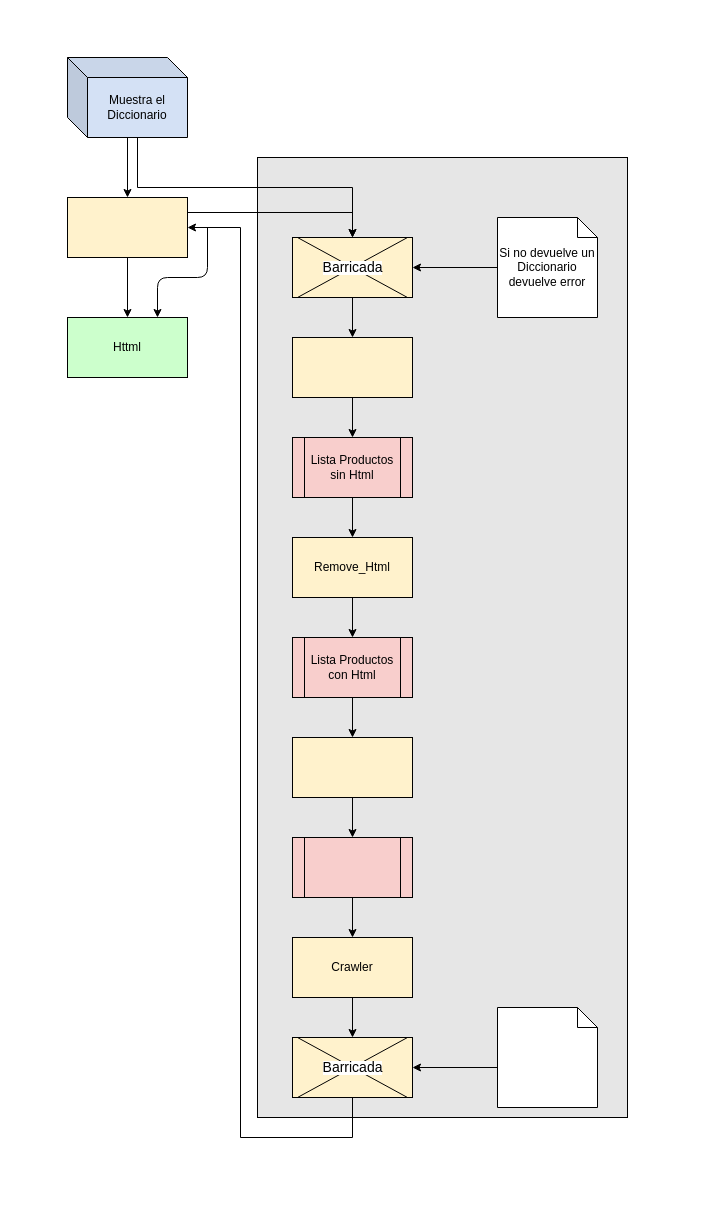
The diagram is 715 pixels wide and 1225 high, and some of its shapes have lost their labels. The box of each missing label's shape, as (x1, y1, x2, y2) in pixels:
Diccionario con Keys, Links: (292, 836, 412, 898)
Get_Products: (292, 736, 412, 798)
Main: (66, 196, 188, 258)
Make_Diccionary: (292, 336, 412, 398)
Si la ruta de la página no es correcta no se ejecutará el programa: (496, 1006, 598, 1108)
